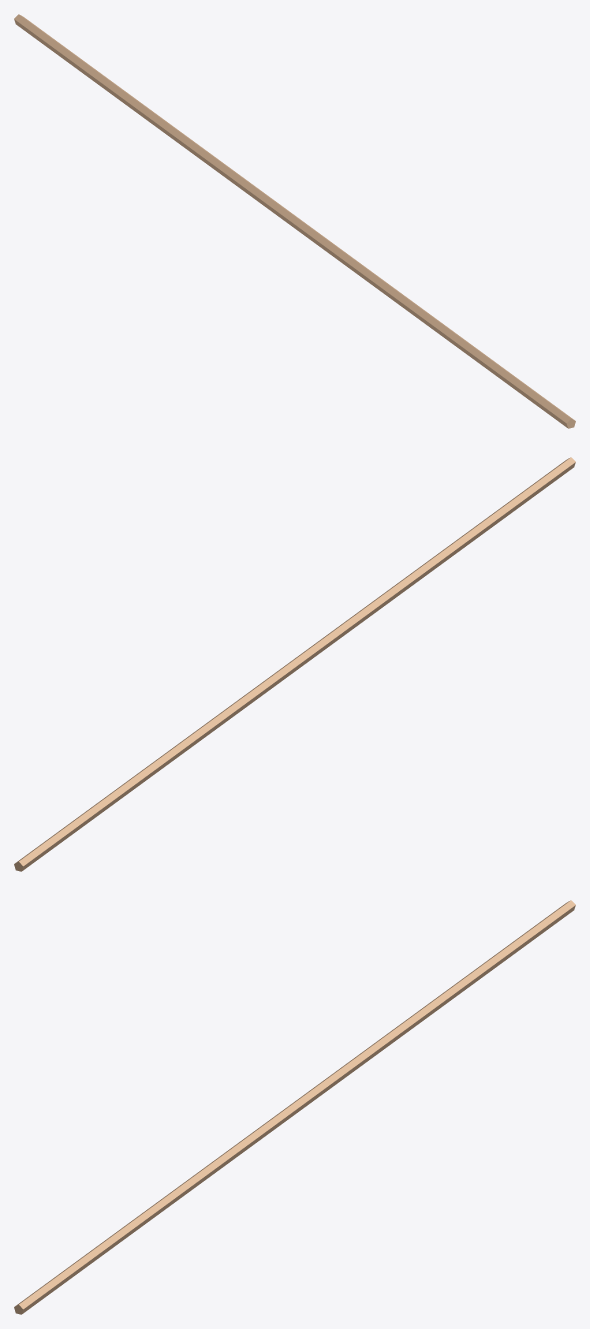
File: Rope_Line.fbx
3 renders of one model, top to bottom at view 1: azimuth 30°, elevation 25°; view 2: azimuth 150°, elevation 25°; view 3: azimuth 330°, elevation 25°, orthographic.
Parts seen in each view (by area): view 1: sweep6; view 2: sweep6; view 3: sweep6.
Part boxes in pixels (x1,y1,x2,y2): sweep6: (14, 14, 575, 428); sweep6: (14, 457, 575, 871); sweep6: (14, 900, 575, 1314).
Size of the model in its own units: 0.5197 by 0.4943 by 52.79.
Materials: 1 (1 with a texture image).
